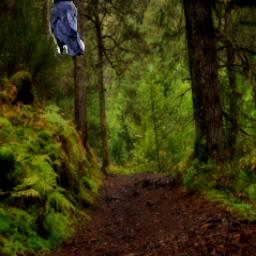Crow: (46, 0, 85, 56)
